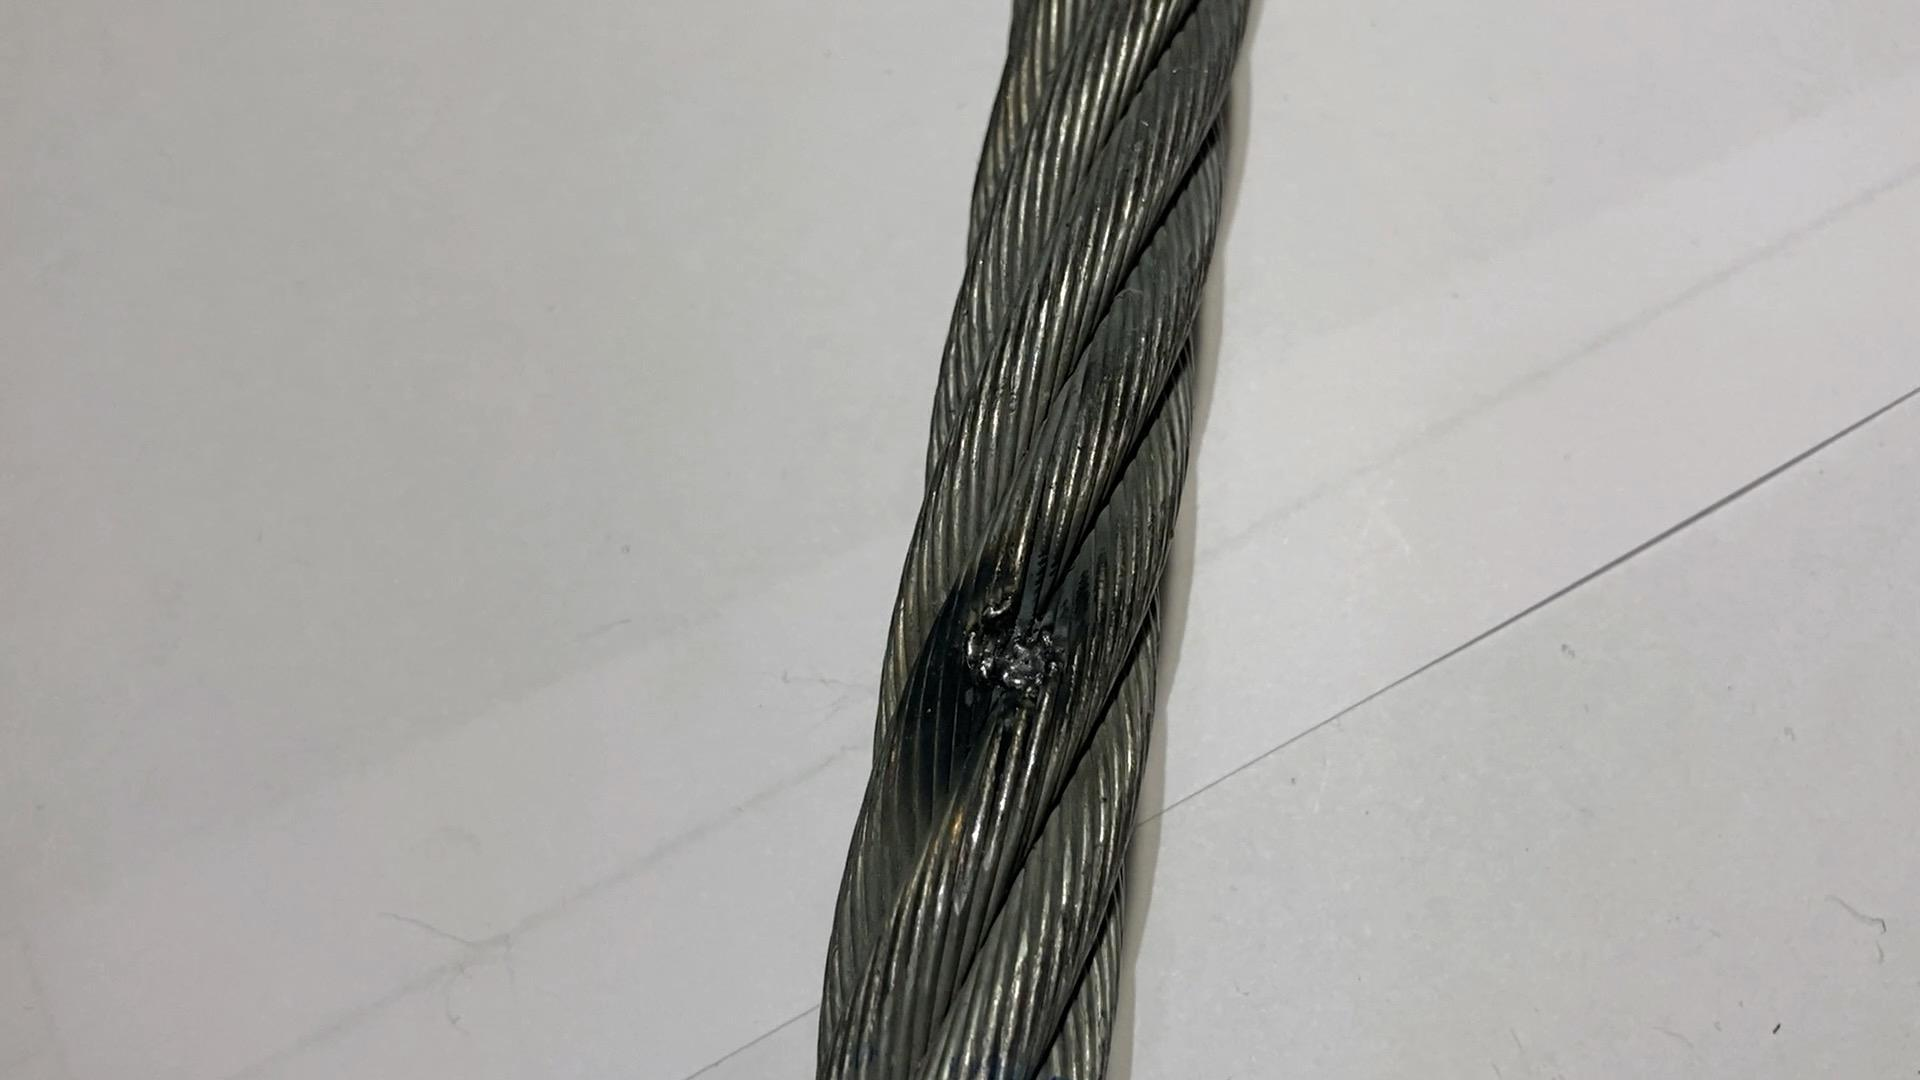thunderbolt: (957, 567, 1067, 694)
